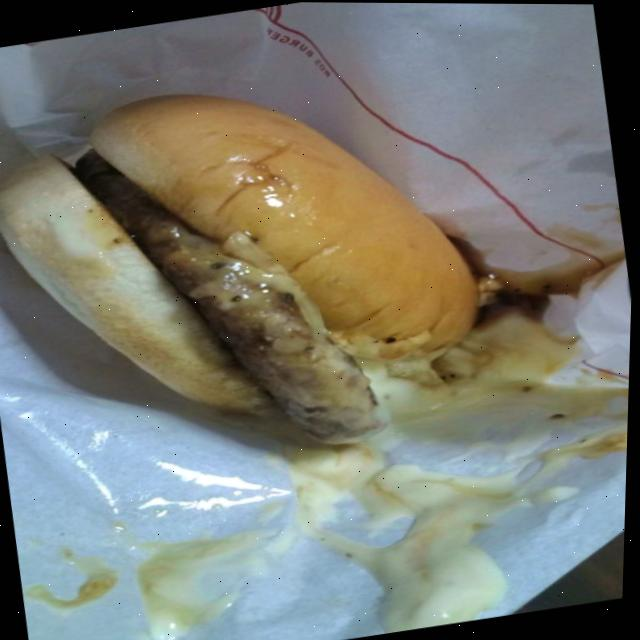汉堡快餐: (0, 40, 502, 539)
